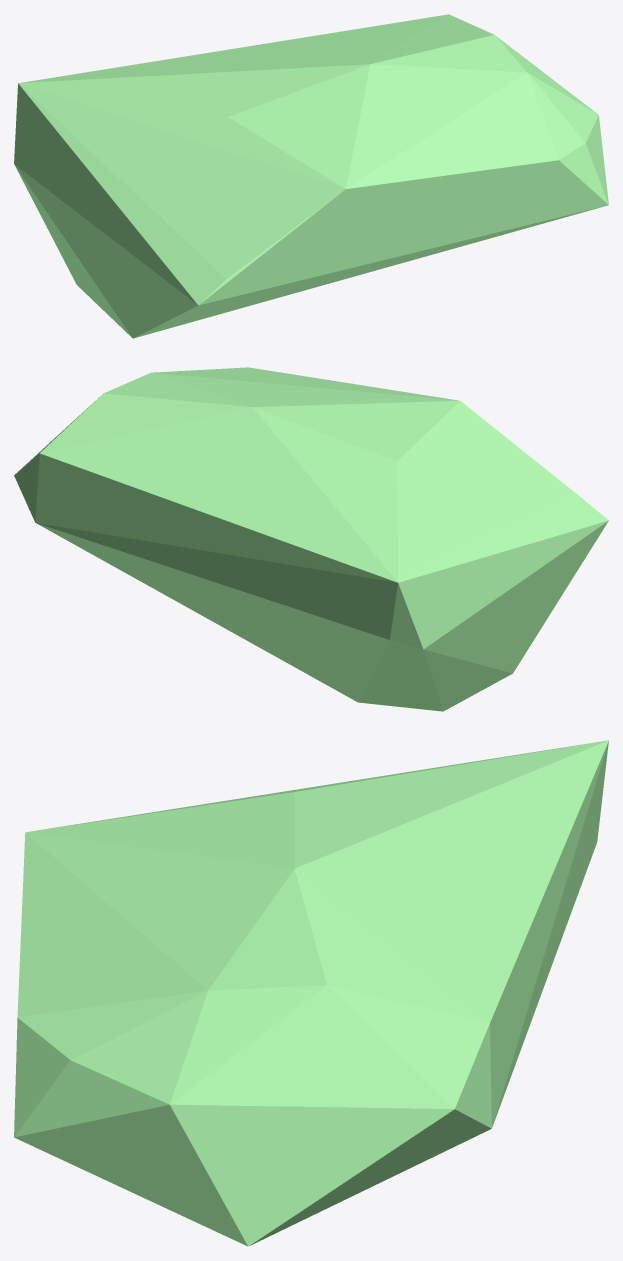
The model's file is linkhou_LR4_R560_link2_respondable_coll_5.dae.
The picture shows the model from 3 angles, top to bottom: view 1: azimuth 30°, elevation 25°; view 2: azimuth 150°, elevation 25°; view 3: azimuth 270°, elevation 25°; orthographic projection. The views are drawn at different scales.
Parts seen in each view (by area): view 1: Node_00000209DB3AC2E0; view 2: Node_00000209DB3AC2E0; view 3: Node_00000209DB3AC2E0.
Boxes of the visible parts, left/top/right/bottom form: Node_00000209DB3AC2E0: left=14, top=14, right=608, bottom=338; Node_00000209DB3AC2E0: left=14, top=367, right=608, bottom=711; Node_00000209DB3AC2E0: left=14, top=740, right=608, bottom=1246.
Bounding box in the file's own units: 0.1392 × 0.0581 × 0.1003.
